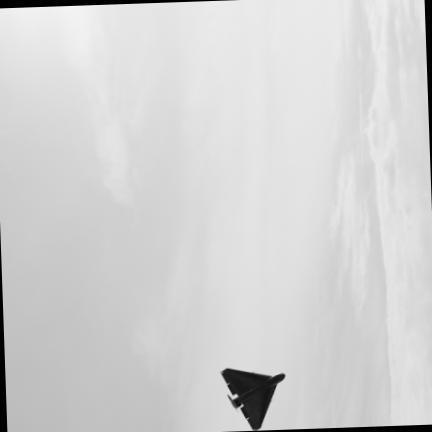Shahed: (221, 368, 284, 429)
